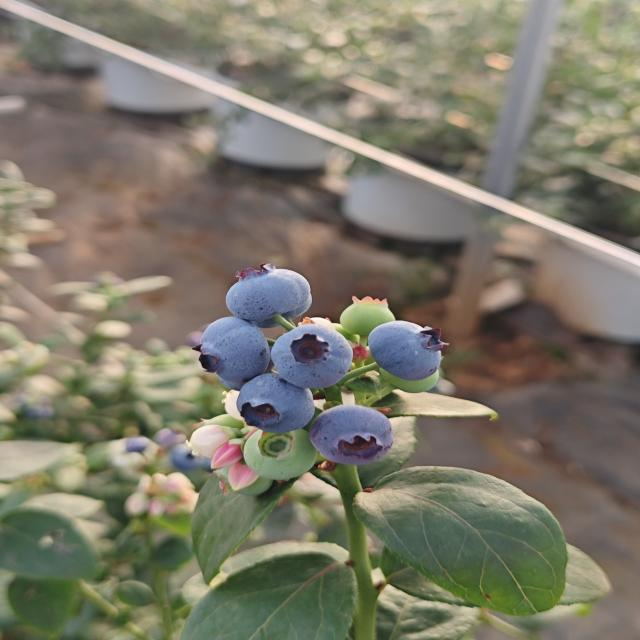ripe: (269, 322, 355, 390), (307, 403, 396, 467), (223, 263, 313, 325), (365, 318, 449, 383), (192, 316, 269, 380), (238, 377, 314, 430), (168, 441, 212, 472), (121, 431, 154, 459)
